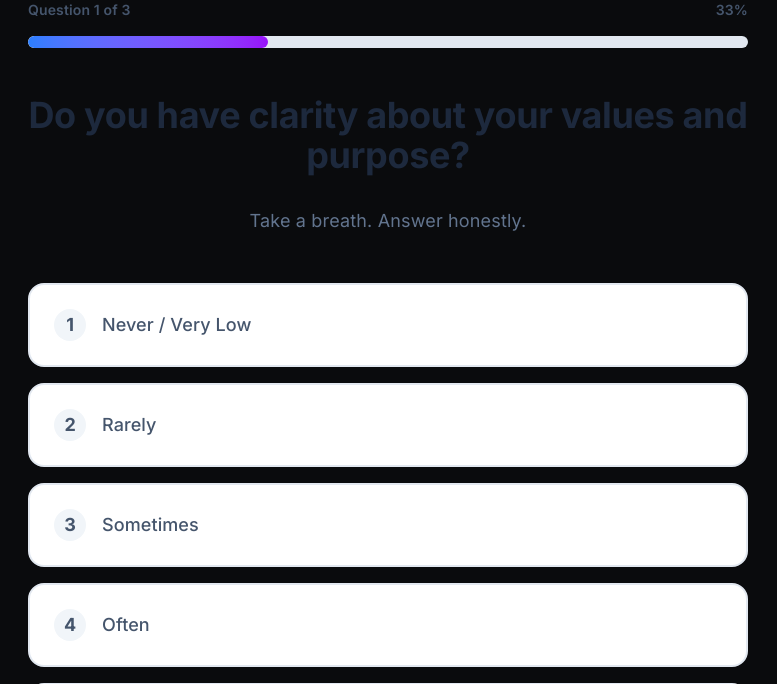
Test: AssessmentStepper Component › Navigation › should advance to next question when Next is clicked
# Answer first question
Click the button "3 Sometimes": x=70, y=525 28,483 -> 748,567
(page scrolled)
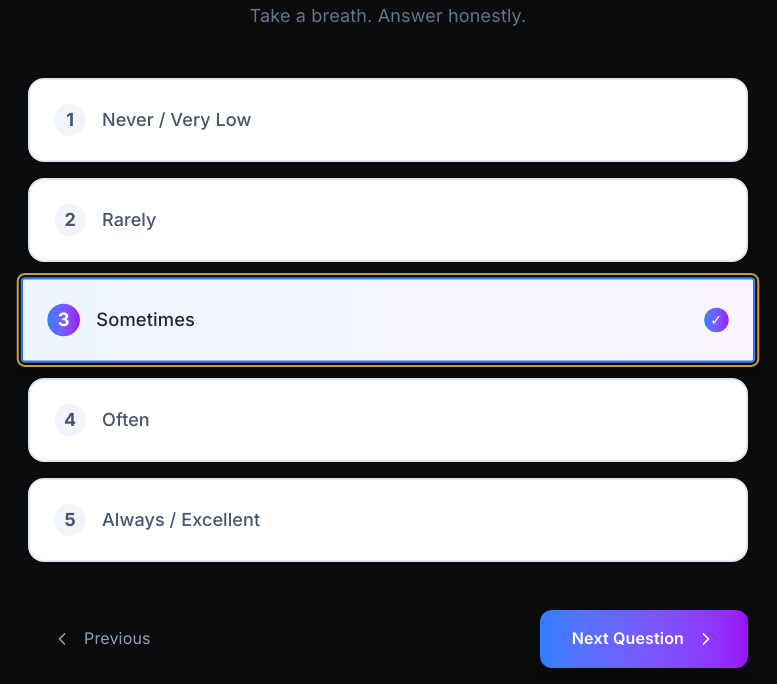
# Click Next
Click the button "Next Question": x=644, y=639 540,610 -> 748,668
(page scrolled)
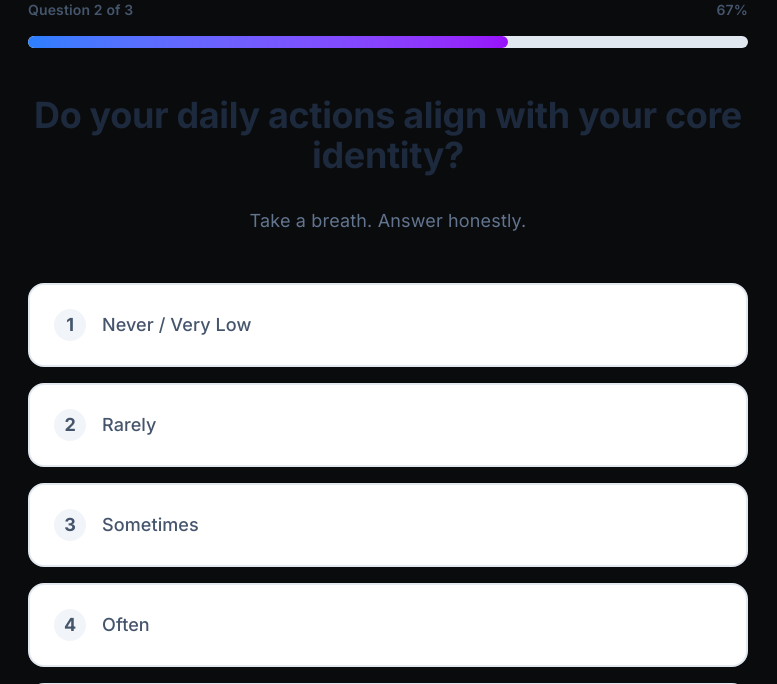
Check: the heading "Do your daily actions align with your core identity?" is shown, box 28,96 -> 748,175
Check: the text "Question 2 of 3" is shown, box 28,0 -> 133,20
